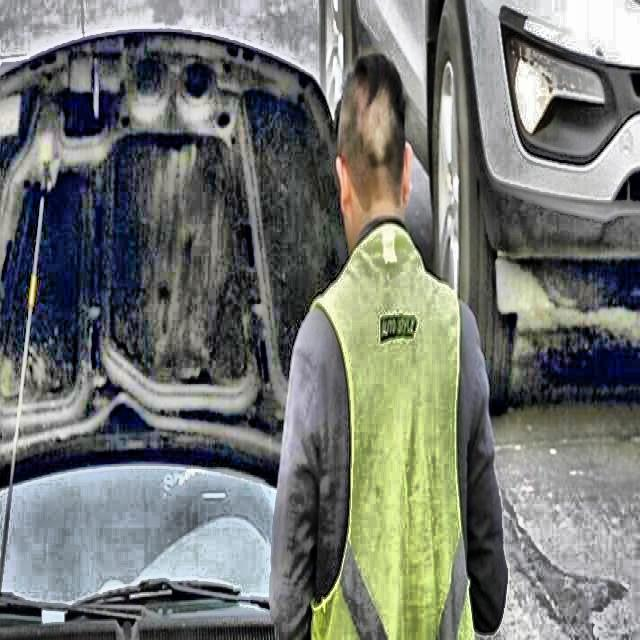safety_jacket: (304, 242, 470, 634)
